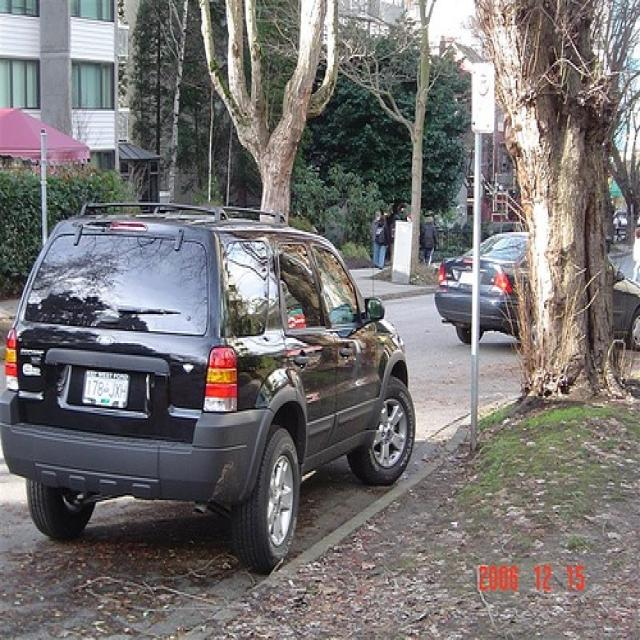car: (0, 196, 421, 572), (428, 222, 638, 355)
